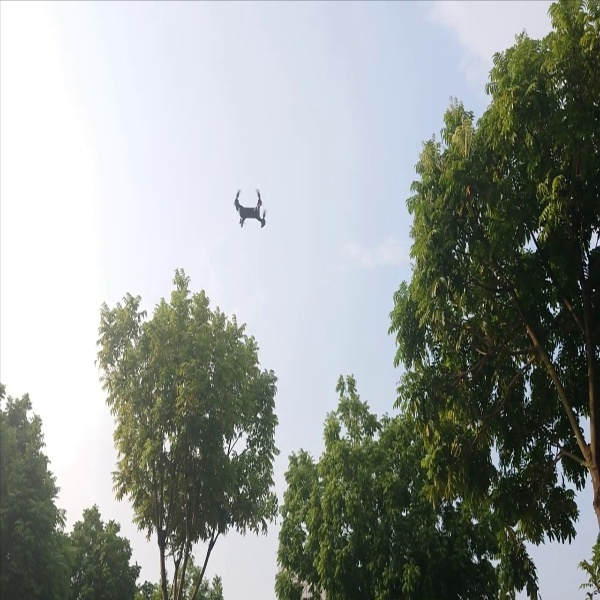drone: (229, 184, 276, 233)
